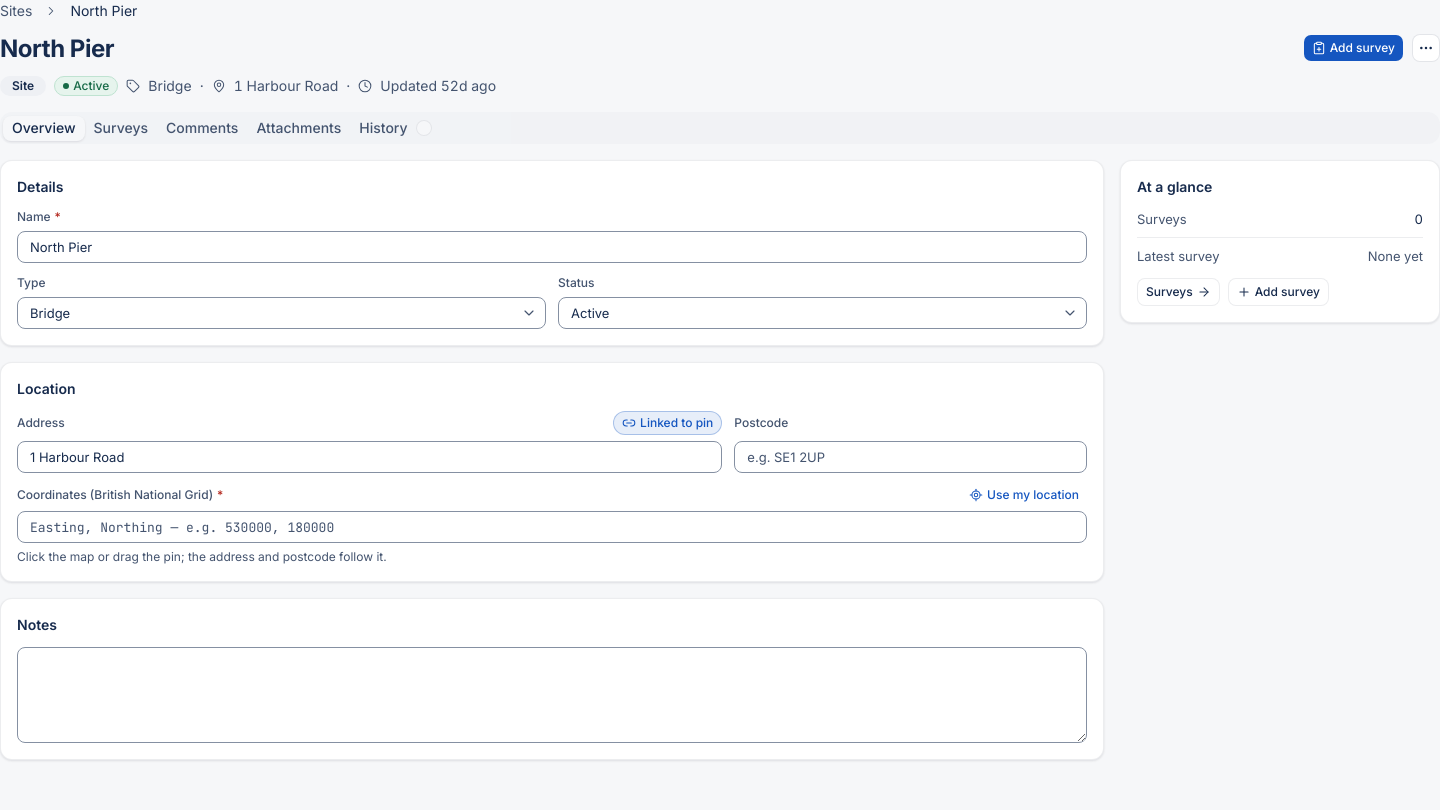
Test: SiteDetailPage save bar › appears only with unsaved changes, and Discard puts the values back
expect the button "save" is not shown: met
Step 1. Type " East" into the field labelled "Name *" → point(552, 247), box top-left (17, 231), bottom-right (1087, 263)
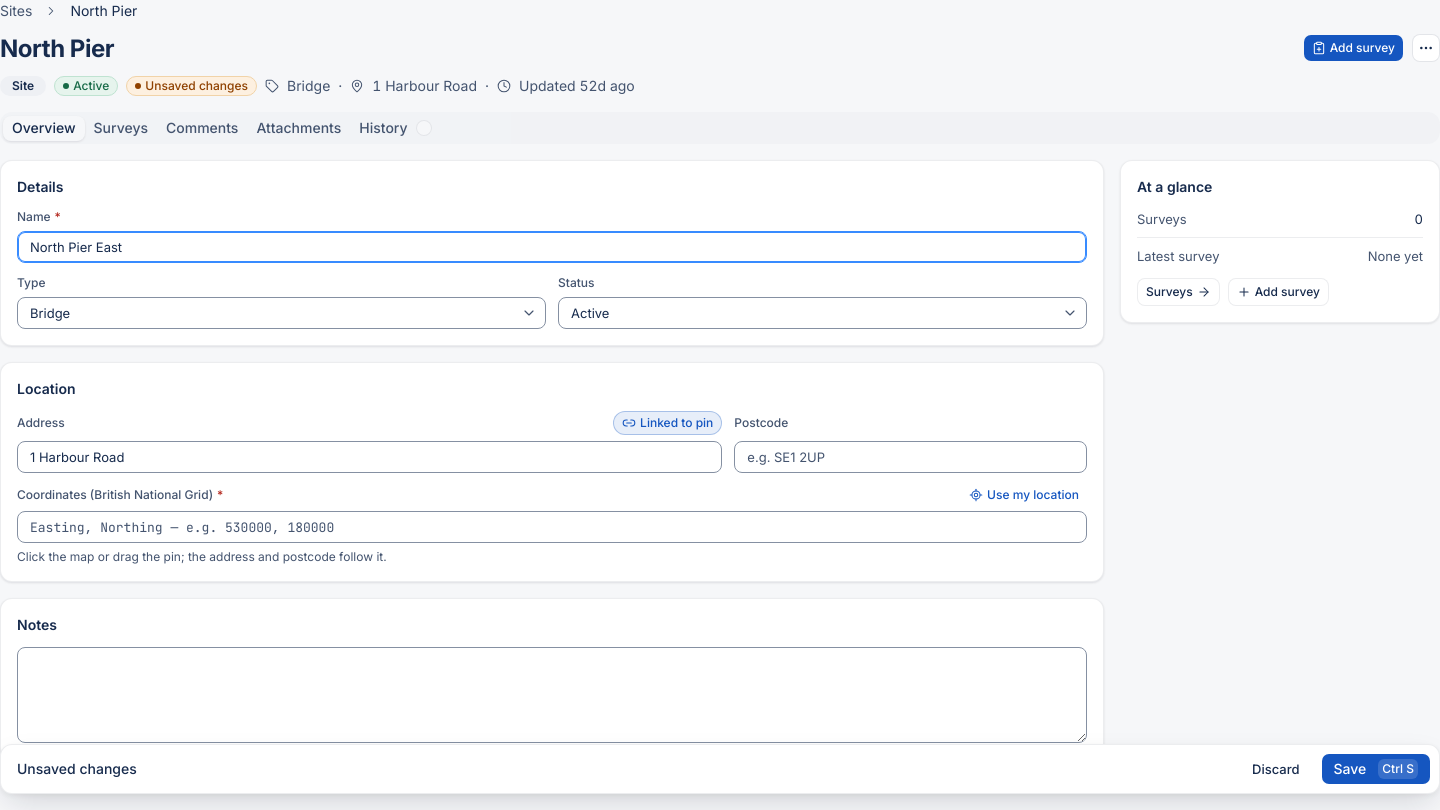
Step 2. Click the button "Discard" → point(1276, 769), box top-left (1239, 753), bottom-right (1312, 785)
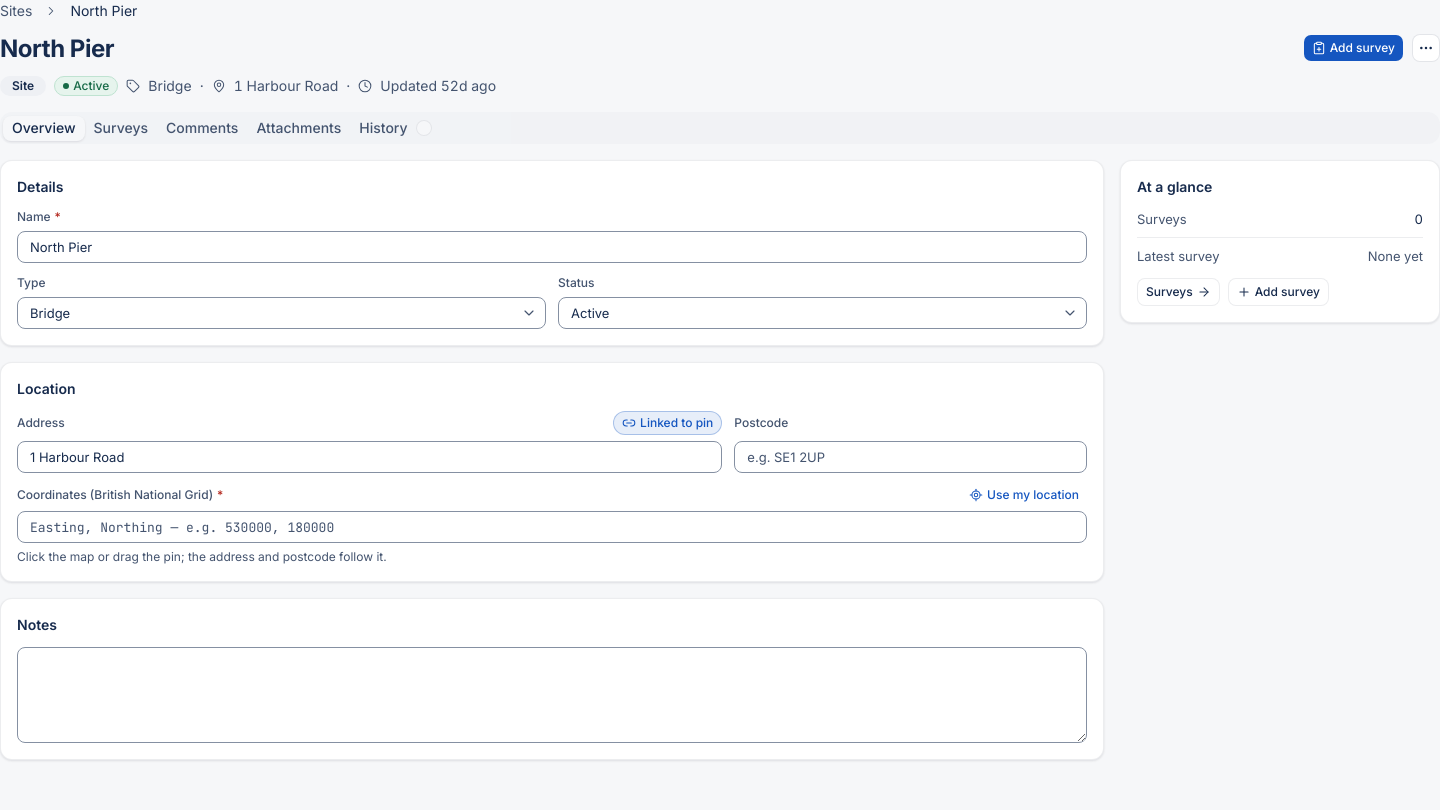
expect the field labelled "Name *" holds "North Pier": met, box top-left (17, 231), bottom-right (1087, 263)
expect the element "Unsaved changes" is gone: met
